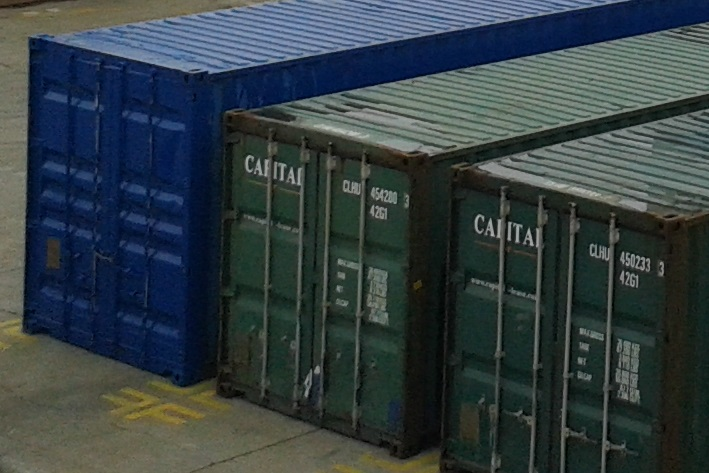container_door: (440, 169, 672, 473), (217, 111, 417, 461), (24, 29, 201, 391)
